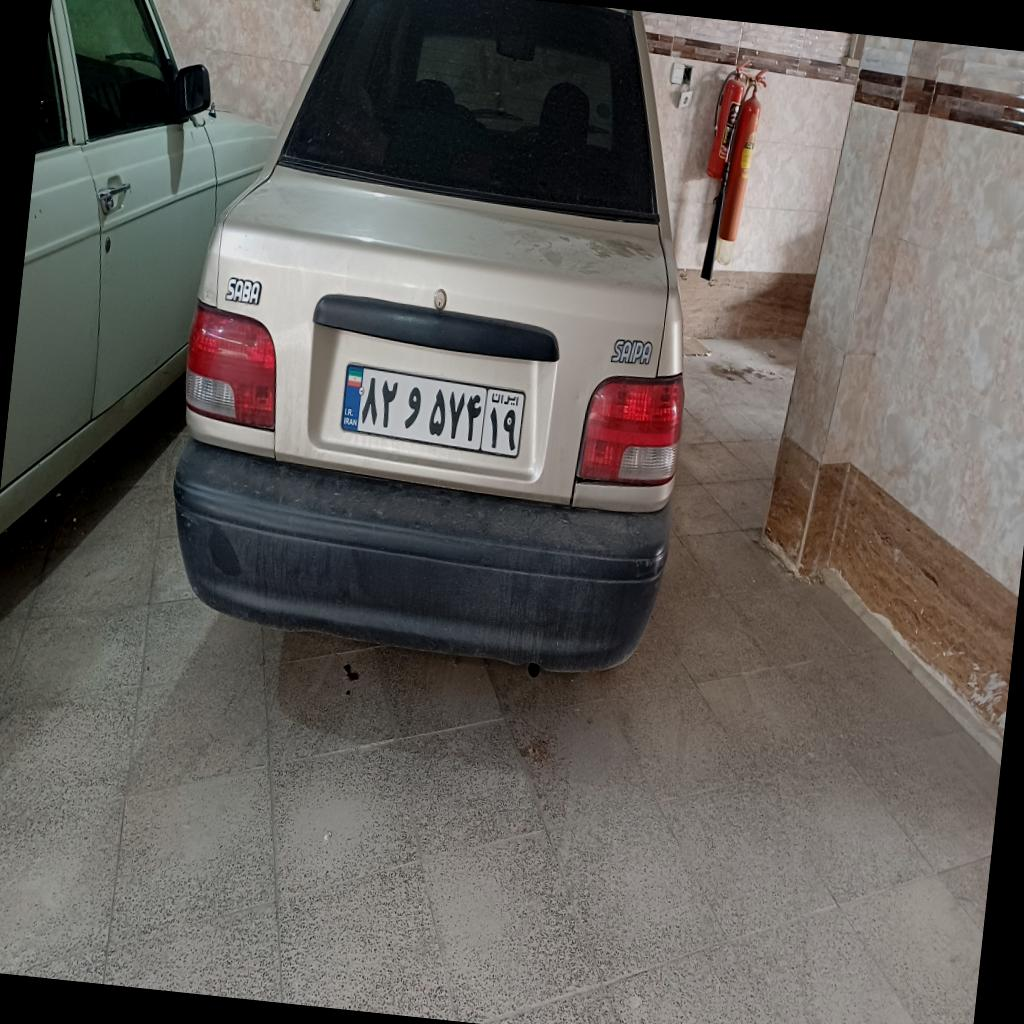Plates: (340, 362, 527, 457)
